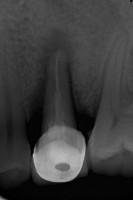Dental Caries: (28, 28, 75, 114), (67, 63, 102, 117)
